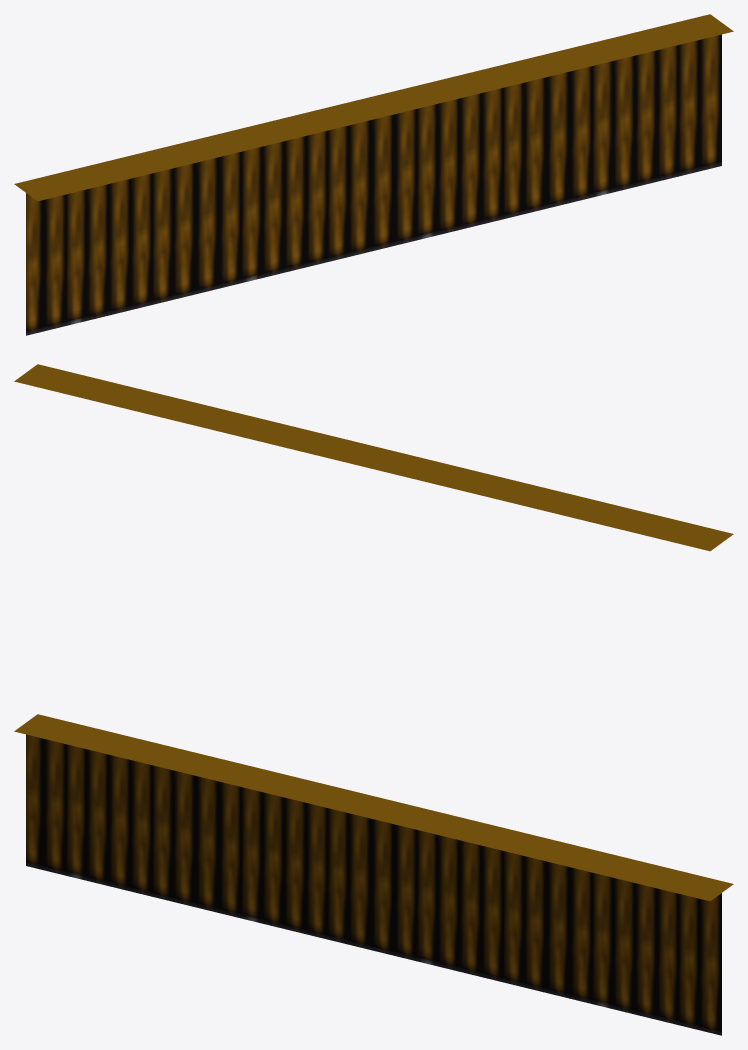
The model's file is Geländer1.5_99.glb.
3 renders of one model, top to bottom at view 1: azimuth 30°, elevation 25°; view 2: azimuth 150°, elevation 25°; view 3: azimuth 330°, elevation 25°, orthographic.
Visible parts, largest first — view 1: pPlaneShape227, pPlaneShape228; view 2: pPlaneShape228; view 3: pPlaneShape227, pPlaneShape228.
Boxes of the visible parts, x1,y1,x2,y2 form: pPlaneShape227: (26,34,721,335); pPlaneShape228: (14,14,733,201); pPlaneShape228: (14,364,733,551); pPlaneShape227: (26,734,721,1035); pPlaneShape228: (14,714,733,901).
Size of the model in its own units: 0.4125 by 0.081 by 0.0243.
Materials: 2 (1 with a texture image).
